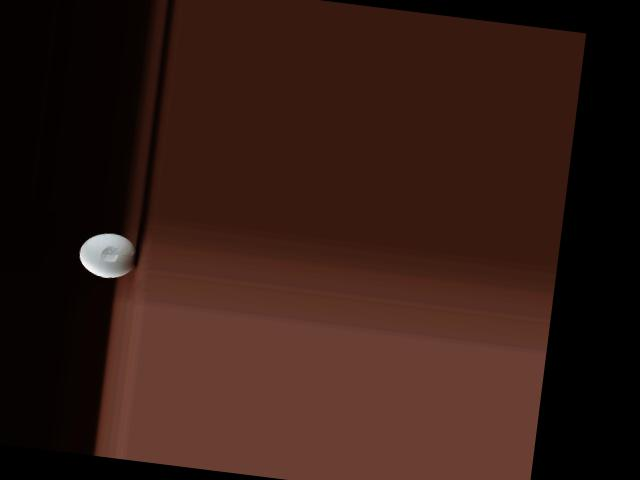egg: (76, 230, 139, 280)
